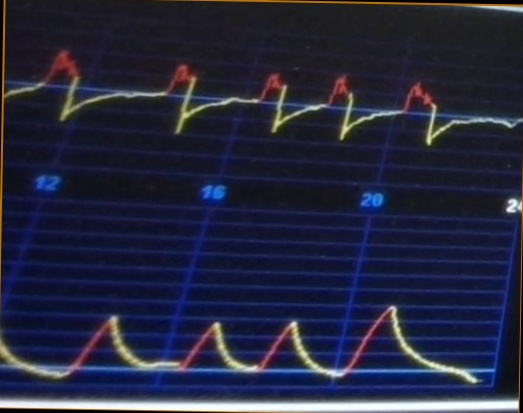Accumulation Flow: (4, 39, 507, 160)
Volume: (2, 287, 488, 385)
